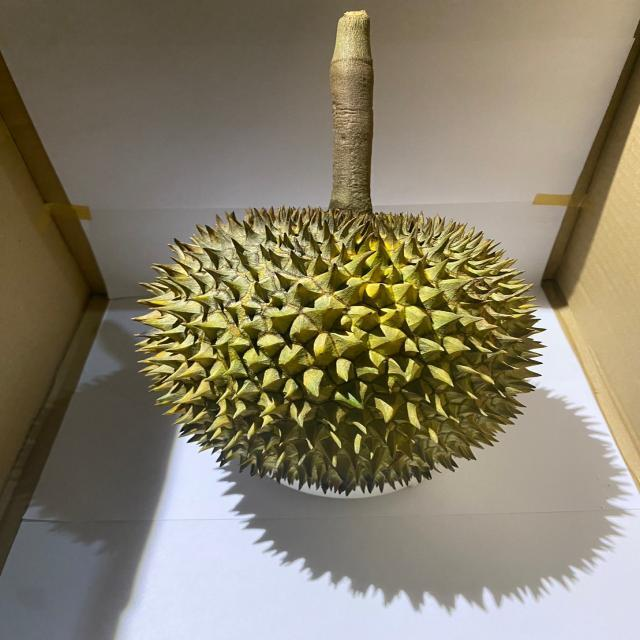immature: (131, 201, 547, 499)
